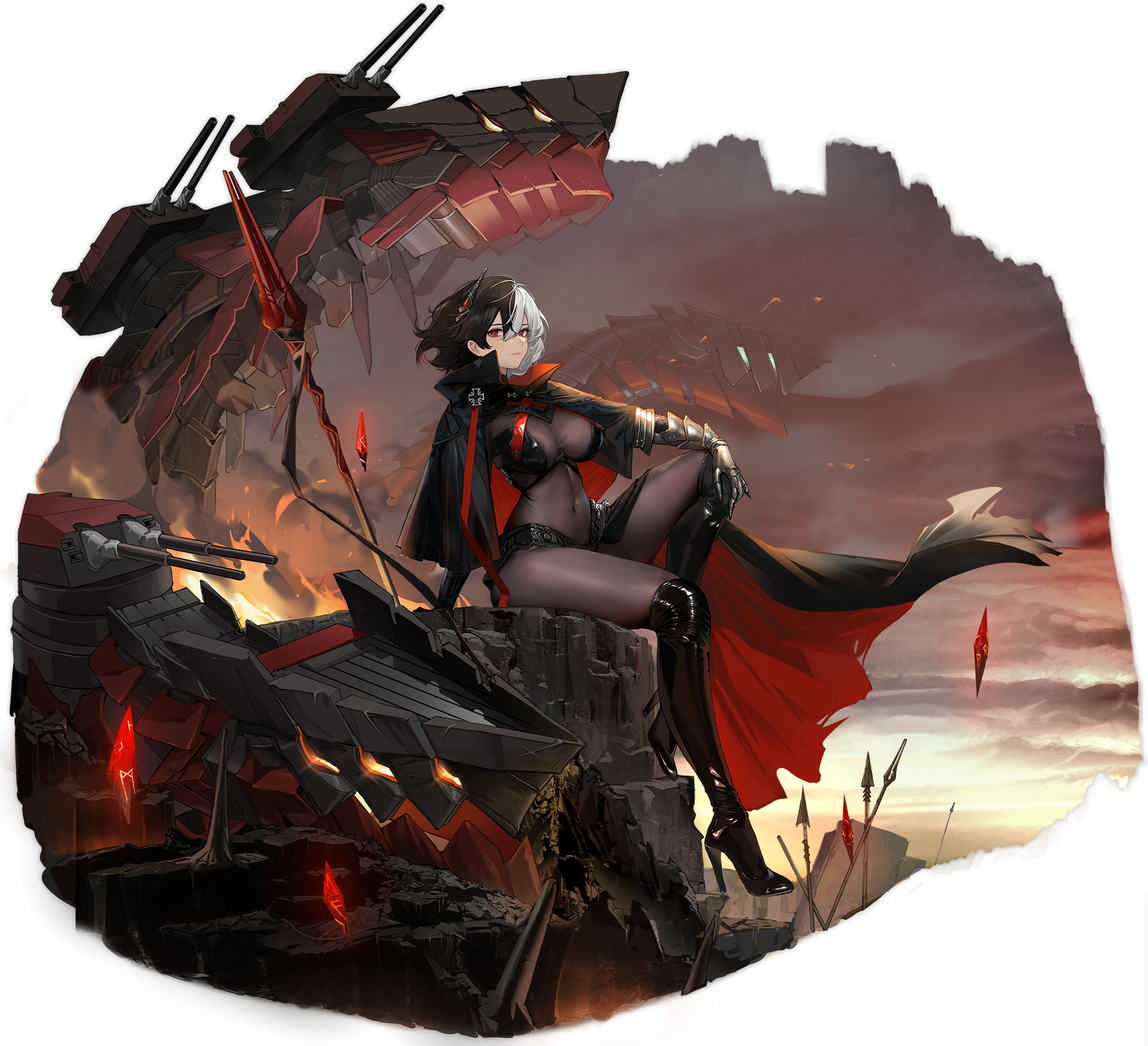person: (373, 240, 882, 971)
